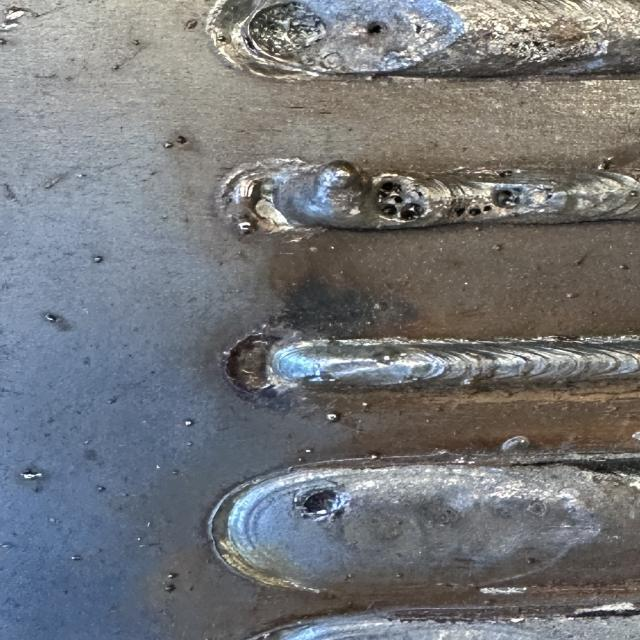Excess Reinforcement: (312, 160, 374, 203)
Porosity: (248, 1, 327, 58), (508, 41, 554, 53), (400, 203, 427, 220), (377, 181, 393, 198), (496, 190, 512, 207), (367, 21, 382, 33), (382, 204, 397, 215), (470, 208, 482, 216), (500, 171, 512, 178), (455, 208, 465, 216), (394, 196, 404, 203), (483, 205, 492, 211)
Spatters: (500, 435, 530, 454), (43, 312, 72, 331), (22, 471, 43, 479), (185, 19, 198, 29), (177, 135, 188, 144), (327, 412, 338, 421), (165, 584, 177, 592), (373, 302, 384, 310), (163, 141, 173, 149), (93, 255, 103, 263), (565, 292, 578, 298), (167, 572, 178, 579), (70, 555, 82, 561), (492, 244, 502, 251), (217, 35, 227, 41), (185, 420, 193, 426), (97, 485, 105, 491), (107, 399, 115, 404), (170, 470, 178, 475), (186, 441, 193, 446), (370, 455, 378, 459), (620, 265, 628, 269), (629, 192, 637, 196), (133, 40, 140, 44), (83, 440, 90, 444), (362, 402, 368, 406), (305, 449, 312, 452), (147, 522, 150, 526)
